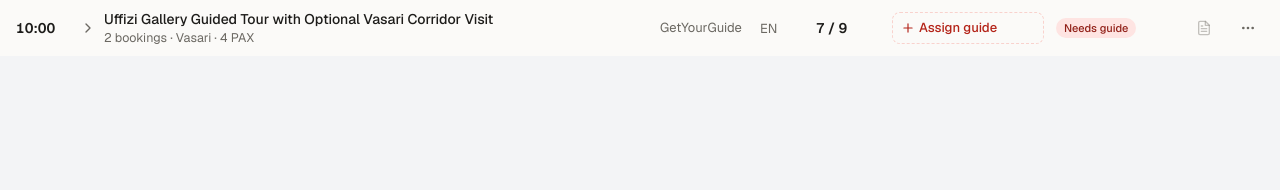
Test: where the chip shows (step 6.14) › desktop group: header "Vasari · 4 PAX", and each Vasari member row its own chip
The width and height of the screenshot is (1280, 190).
Check: the text with test id "vasari-group-chip" reads "Vasari · 4 PAX", box [176,29,254,46]
Click the text "Uffizi Gallery Guided Tour with Optional Vasari Corridor Visit": (299, 19) [104,9,493,29]
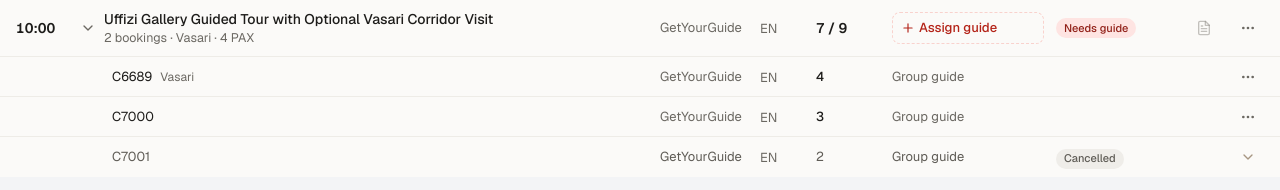
Check: the number of elements with test id "vasari-chip" is 1, box [160,68,194,84]
Click the button named "Show cancelled booking details": (1248, 157) [1232,141,1264,173]
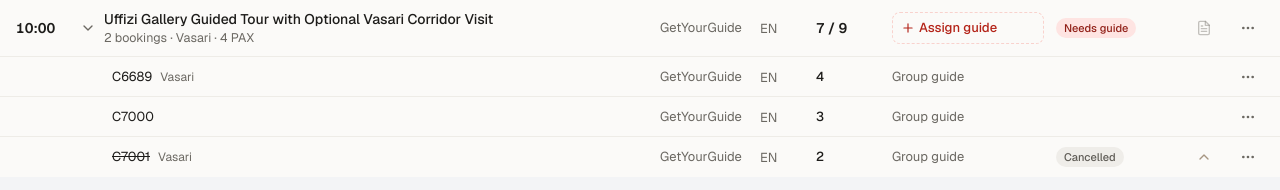
Check: the number of elements with test id "vasari-chip" is 2, box [160,68,194,84]; [158,149,192,165]
